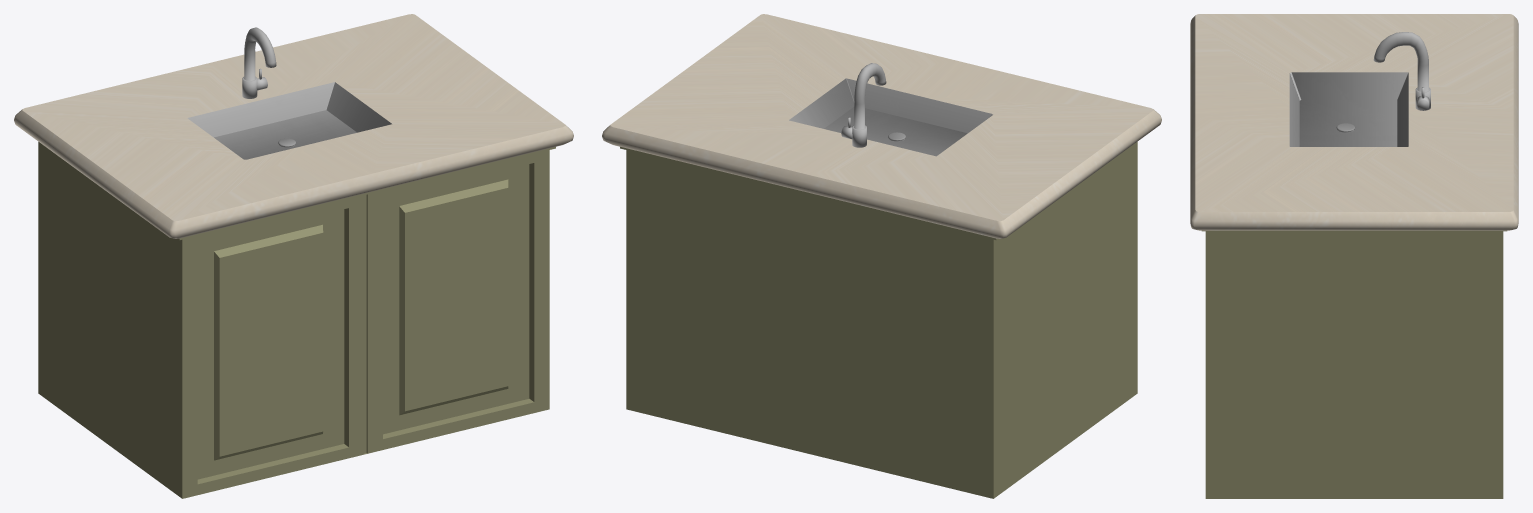
The model's file is kitchen sink.fbx.
3 views of the same model, side by side, from view 1: azimuth 30°, elevation 25°; view 2: azimuth 150°, elevation 25°; view 3: azimuth 270°, elevation 25° (orthographic). The views are drawn at different scales.
Visible parts, largest first — view 1: kitchen sink; view 2: kitchen sink; view 3: kitchen sink.
Boxes of the visible parts, x1,y1,x2,y2 form: kitchen sink: [14, 14, 573, 498]; kitchen sink: [602, 14, 1161, 498]; kitchen sink: [1190, 14, 1518, 498].
Size of the model in its own units: 134 by 113 by 91.04.
3 materials, 3 textured.
